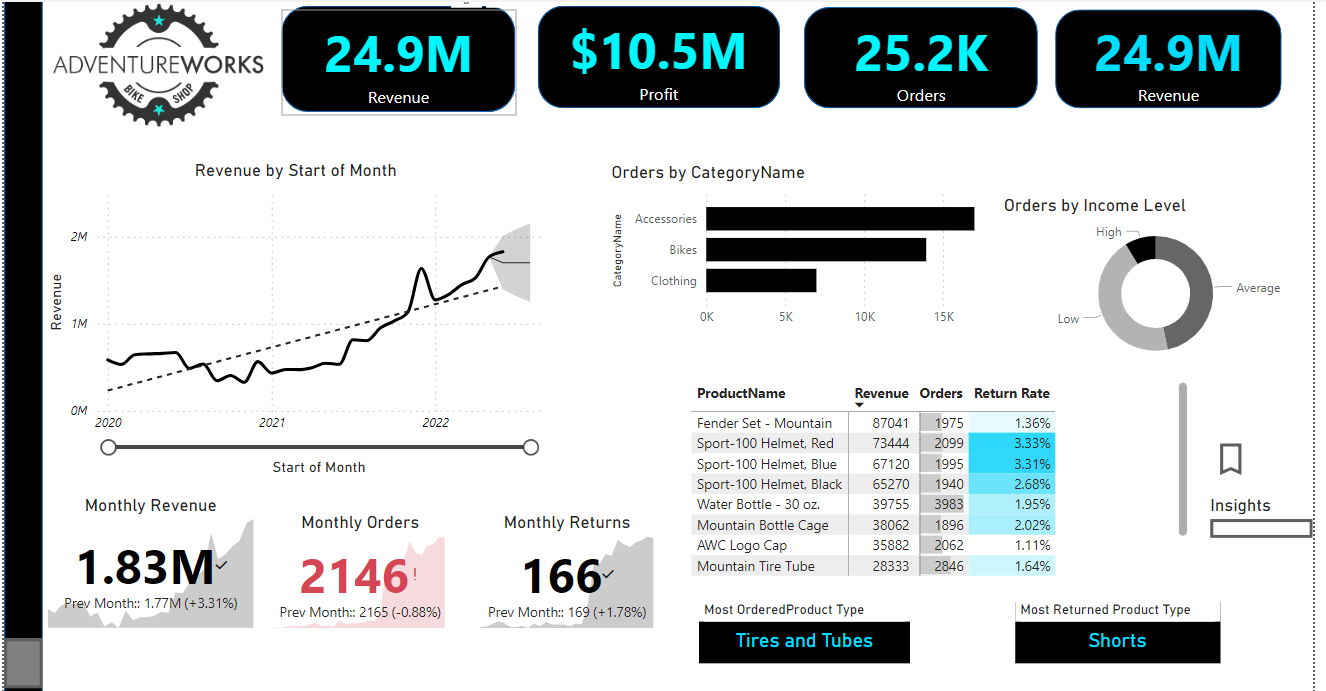

The dashboard page shown, as its layout file describes it:
{"tool":"powerbi","page":{"name":"Page 1","canvas":[1280,720],"ordinal":0},"visuals":[{"type":"shape","box":[271.4,47.7,228.6,103.9],"z":0},{"type":"card","fields":{"Values":["Measure Table.Revenue"]},"box":[271.4,51.3,229.8,103.9],"z":1000},{"type":"lineChart","fields":{"Y":["Measure Table.Revenue"],"Category":["Calendar Lookup.Start of Year","Calendar Lookup.Start of Month","Calendar Lookup.Date"]},"box":[37.9,198,495.1,312.9],"z":2000},{"type":"barChart","fields":{"Category":["Product Categories Lookup.CategoryName"],"Y":["Measure Table.Orders"]},"box":[589.2,200.5,421.7,169.9],"z":3000},{"type":"donutChart","fields":{"Y":["Measure Table.Total Orders"],"Category":["Customer Lookup.Income Level"]},"box":[973,232.3,306.8,174.8],"z":4000},{"type":"image","box":[20.8,30.6,261.6,150.4],"z":5000},{"type":"shape","box":[522,47.7,237.1,100.2],"z":6000},{"type":"card","fields":{"Values":["Measure Table.Profit"]},"box":[522,39.1,237.1,122.2],"z":7000},{"type":"shape","box":[782.3,48.9,228.6,99],"z":8000},{"type":"card","fields":{"Values":["Measure Table.Orders"]},"box":[778.7,42.8,237.1,117.4],"z":9000},{"type":"shape","box":[1028,51.3,221.3,96.6],"z":10000},{"type":"card","fields":{"Values":["Measure Table.Revenue"]},"box":[1035.4,51.3,207.8,100.2],"z":11000},{"type":"pivotTable","fields":{"Rows":["Product Lookup.ProductName"],"Values":["Measure Table.Revenue","Measure Table.Orders","Measure Table.Return Rate"]},"box":[667.4,410.7,495.1,199.3],"z":12000},{"type":"card","title":"Most Returned Product Type","fields":{"Values":["Min(Product Subcategories Lookup.SubcategoryName)"]},"box":[988.9,630.8,200.5,59.9],"z":13000},{"type":"card","title":"Most OrderedProduct Type","fields":{"Values":["Min(Product Subcategories Lookup.SubcategoryName)"]},"box":[679.7,630.8,206.6,59.9],"z":14000},{"type":"kpi","title":"Monthly Revenue","fields":{"Indicator":["Measure Table.Revenue"],"TrendLine":["Calendar Lookup.Start of Month"],"Goal":["Measure Table.Previous Revenue"]},"box":[37.9,525.6,211.5,135.7],"z":15000},{"type":"kpi","title":"Monthly Orders","fields":{"TrendLine":["Calendar Lookup.Start of Month"],"Indicator":["Measure Table.Orders"],"Goal":["Measure Table.Previous Month Orders"]},"box":[260.4,542.8,176,118.6],"z":16000},{"type":"kpi","title":"Monthly Returns","fields":{"TrendLine":["Calendar Lookup.Start of Month"],"Indicator":["Measure Table.Total Returns"],"Goal":["Measure Table.Previous Month Returns"]},"box":[460.8,542.8,179.7,118.6],"z":17000},{"type":"actionButton","box":[1179.6,470.6,100.2,40.3],"z":18000},{"type":"actionButton","title":"Insights","box":[1179.6,525.6,100.2,42.8],"z":20000},{"type":"shape","box":[0,0,37.9,720],"z":23000},{"type":"actionButton","title":"open","box":[0,3.7,46.5,39.1],"z":24000},{"type":"actionButton","box":[0,666.2,37.9,48.9],"z":25000}]}

Visuals, with their boxes on the page's 1280x720 design canvas (x1, y1, x2, y2). These are canvas units, not pixel positions in the 1326x691 screenshot, which may show the page scaled, cropped or inside an application window:
shape: {"left": 271, "top": 48, "right": 500, "bottom": 152}
card - Measure Table.Revenue: {"left": 271, "top": 51, "right": 501, "bottom": 155}
lineChart - Measure Table.Revenue x Calendar Lookup.Start of Year: {"left": 38, "top": 198, "right": 533, "bottom": 511}
barChart - Product Categories Lookup.CategoryName x Measure Table.Orders: {"left": 589, "top": 200, "right": 1011, "bottom": 370}
donutChart - Measure Table.Total Orders x Customer Lookup.Income Level: {"left": 973, "top": 232, "right": 1280, "bottom": 407}
image: {"left": 21, "top": 31, "right": 282, "bottom": 181}
shape: {"left": 522, "top": 48, "right": 759, "bottom": 148}
card - Measure Table.Profit: {"left": 522, "top": 39, "right": 759, "bottom": 161}
shape: {"left": 782, "top": 49, "right": 1011, "bottom": 148}
card - Measure Table.Orders: {"left": 779, "top": 43, "right": 1016, "bottom": 160}
shape: {"left": 1028, "top": 51, "right": 1249, "bottom": 148}
card - Measure Table.Revenue: {"left": 1035, "top": 51, "right": 1243, "bottom": 152}
pivotTable - Product Lookup.ProductName x Measure Table.Revenue: {"left": 667, "top": 411, "right": 1162, "bottom": 610}
"Most Returned Product Type" card: {"left": 989, "top": 631, "right": 1189, "bottom": 691}
"Most OrderedProduct Type" card: {"left": 680, "top": 631, "right": 886, "bottom": 691}
"Monthly Revenue" kpi: {"left": 38, "top": 526, "right": 249, "bottom": 661}
"Monthly Orders" kpi: {"left": 260, "top": 543, "right": 436, "bottom": 661}
"Monthly Returns" kpi: {"left": 461, "top": 543, "right": 640, "bottom": 661}
actionButton: {"left": 1180, "top": 471, "right": 1280, "bottom": 511}
"Insights" actionButton: {"left": 1180, "top": 526, "right": 1280, "bottom": 568}
shape: {"left": 0, "top": 0, "right": 38, "bottom": 720}
"open" actionButton: {"left": 0, "top": 4, "right": 46, "bottom": 43}
actionButton: {"left": 0, "top": 666, "right": 38, "bottom": 715}
